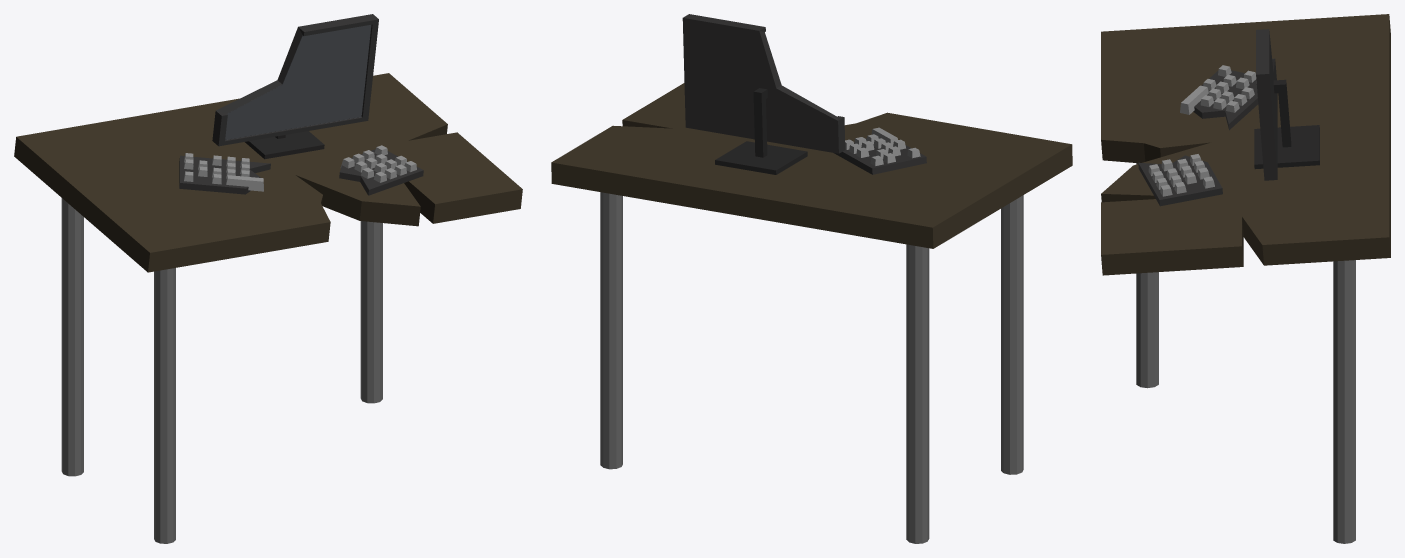
File: broken table1.fbx
3 views of the same model, side by side, from view 1: azimuth 30°, elevation 25°; view 2: azimuth 150°, elevation 25°; view 3: azimuth 270°, elevation 25° (orthographic). The views are drawn at different scales.
Parts seen in each view (by area): view 1: polySurface8, pasted__pCube3, polySurface6, polySurface7, polySurface4, polySurface10, pasted__pCube2, polySurface9; view 2: polySurface8, pasted__pCube3, polySurface6, polySurface4, polySurface7, pasted__pCube2, polySurface10; view 3: polySurface8, polySurface4, polySurface7, pasted__pCube3, pasted__pCube2, polySurface9, polySurface10, pCube17.
Part boxes in pixels (x1,y1,x2,y2): polySurface8: [14, 73, 522, 272]; pasted__pCube3: [212, 14, 378, 146]; polySurface6: [61, 198, 83, 476]; polySurface7: [154, 268, 175, 543]; polySurface4: [360, 221, 382, 403]; polySurface10: [179, 155, 270, 194]; pasted__pCube2: [245, 131, 324, 159]; polySurface9: [339, 149, 423, 195]; polySurface8: [551, 83, 1072, 248]; pasted__pCube3: [682, 14, 845, 153]; polySurface6: [906, 244, 929, 543]; polySurface4: [600, 192, 622, 469]; polySurface7: [1001, 195, 1023, 474]; pasted__pCube2: [715, 88, 807, 174]; polySurface10: [834, 138, 926, 174]; polySurface8: [1101, 14, 1390, 275]; polySurface4: [1333, 260, 1355, 543]; polySurface7: [1136, 163, 1158, 388]; pasted__pCube3: [1256, 29, 1277, 180]; pasted__pCube2: [1254, 79, 1319, 169]; polySurface9: [1138, 155, 1222, 206]; polySurface10: [1193, 70, 1258, 130]; pCube17: [1180, 85, 1208, 114].
Bounding box in the file's own units: 0.9941 × 1.07 × 0.6231.
